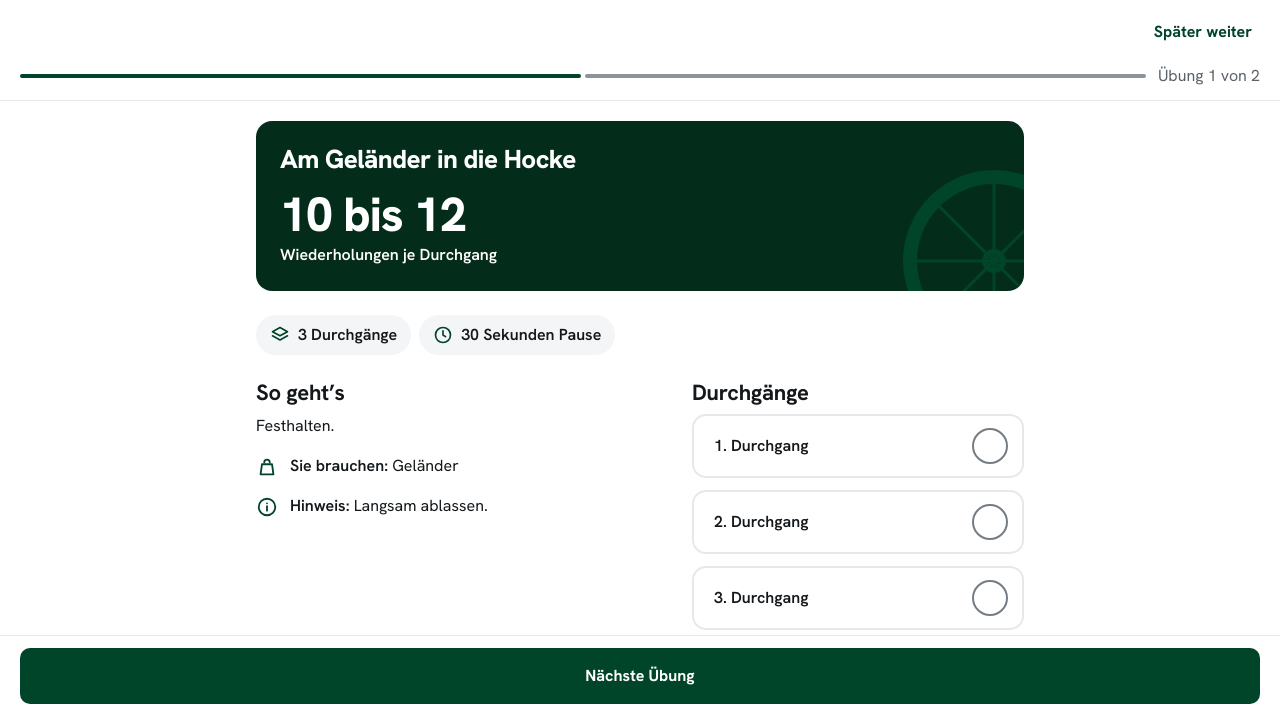
Test case: Durchführungsansicht (UEB-010, TRK-008) › ohne Einwilligung und ohne Haken führt die letzte Übung zum Abschluss, der nichts speichert
Click the button "Nächste Übung": click(640, 676) [20,648,1260,704]
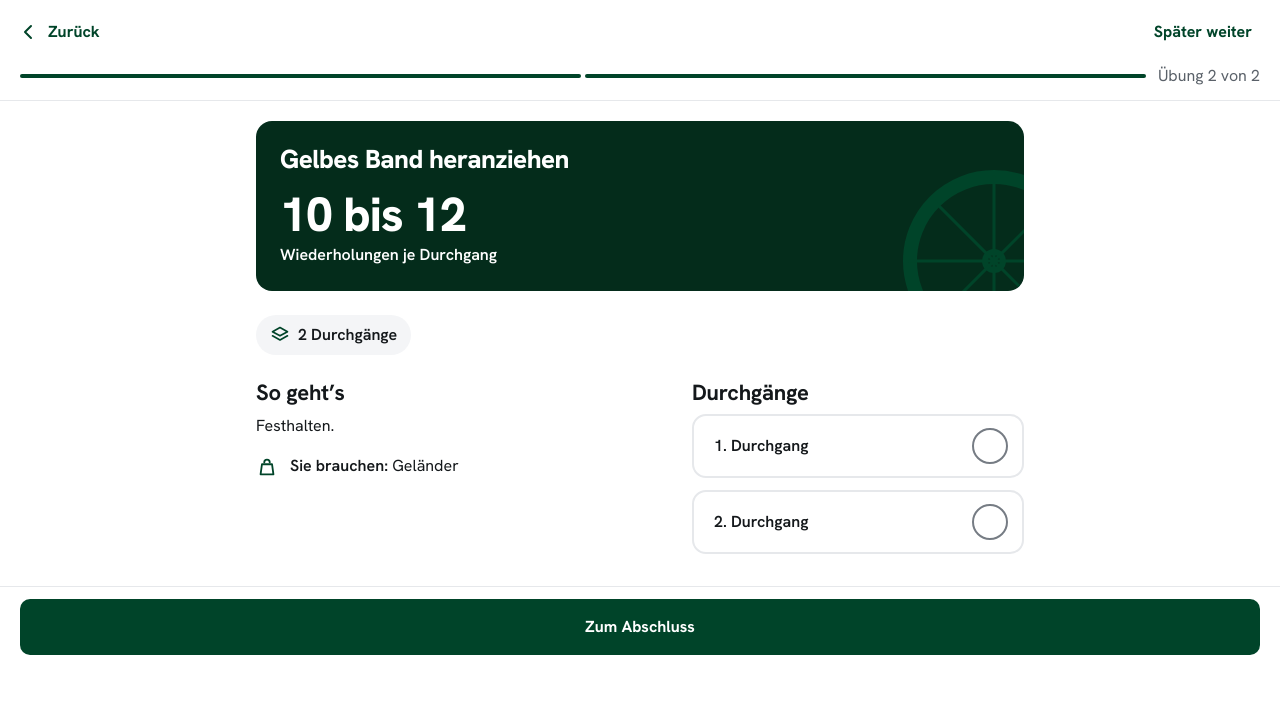
Click the button "Zum Abschluss": click(640, 627) [20,599,1260,655]
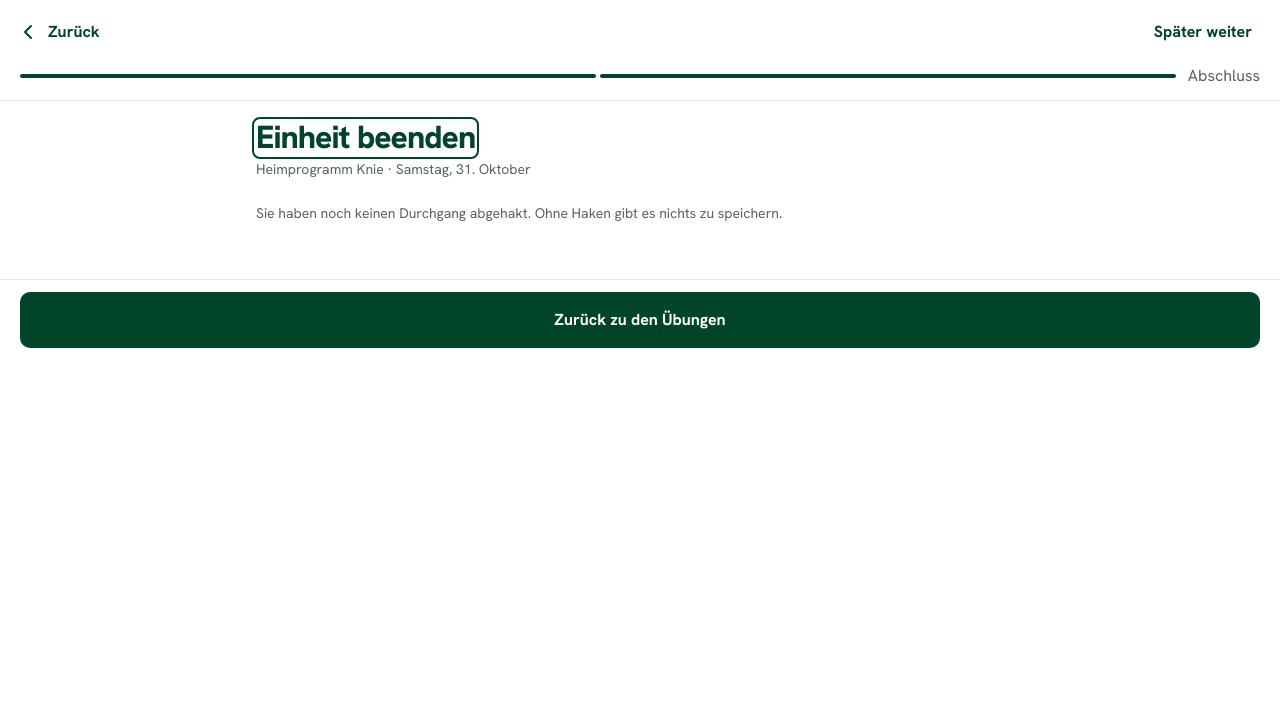
Expected: the text "noch keinen Durchgang abgehakt" is shown, [256,204,782,222]
Expected: the button "Zurück zu den Übungen" is shown, [20,292,1260,348]
